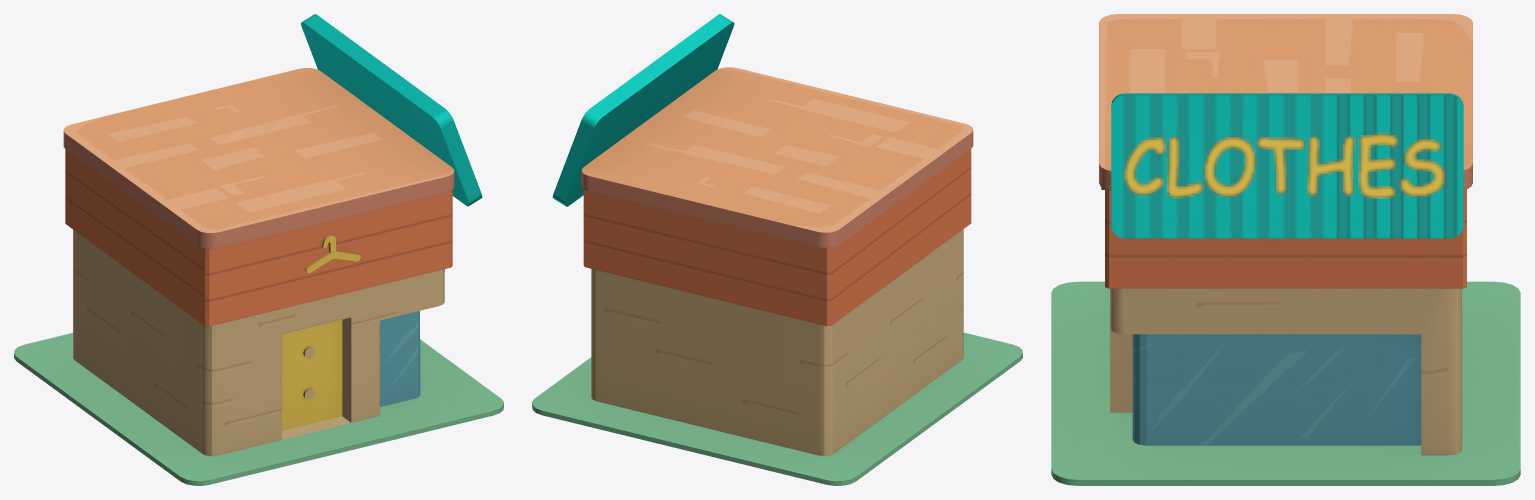
The model's file is structure04.fbx.
The picture shows the model from 3 angles, left to right: view 1: azimuth 30°, elevation 25°; view 2: azimuth 150°, elevation 25°; view 3: azimuth 270°, elevation 25°; orthographic projection. The views are drawn at different scales.
Parts seen in each view (by area): view 1: polySurface18; view 2: polySurface18; view 3: polySurface18.
Part boxes in pixels (<box>): polySurface18: <box>14,14,503,485</box>; polySurface18: <box>532,14,1022,485</box>; polySurface18: <box>1051,14,1520,485</box>.
Bounding box in the file's own units: 3.33 × 2.88 × 3.33.
Materials: 1 (1 with a texture image).
